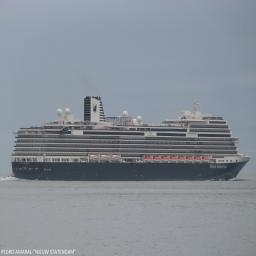cruises: (11, 94, 254, 184)
